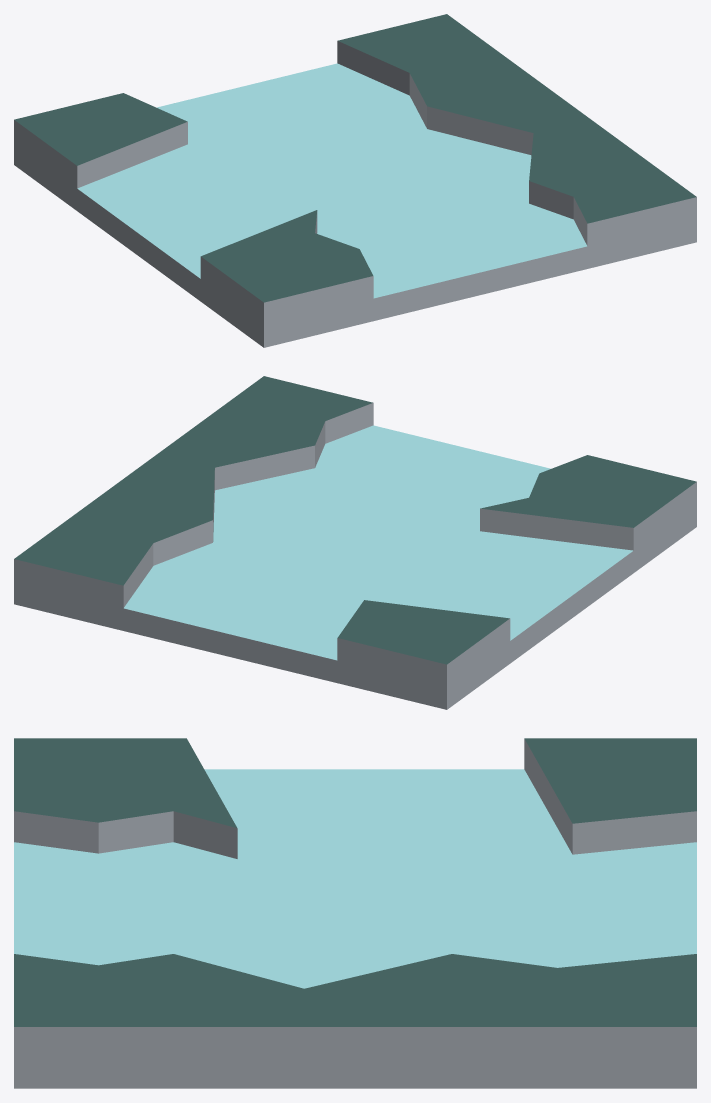
The model's file is naturePack_057.fbx.
The picture shows the model from 3 angles, top to bottom: view 1: azimuth 30°, elevation 25°; view 2: azimuth 150°, elevation 25°; view 3: azimuth 270°, elevation 25°; orthographic projection. The views are drawn at different scales.
Visible parts, largest first — view 1: Mesh1_Plate_River_Dirt Model; view 2: Mesh1_Plate_River_Dirt Model; view 3: Mesh1_Plate_River_Dirt Model.
Part boxes in pixels (box(x1,y1,x2,y2)): Mesh1_Plate_River_Dirt Model: box(14, 14, 696, 347); Mesh1_Plate_River_Dirt Model: box(14, 376, 696, 709); Mesh1_Plate_River_Dirt Model: box(14, 738, 696, 1088).
Bounding box in the file's own units: 3 × 0.3 × 3.
